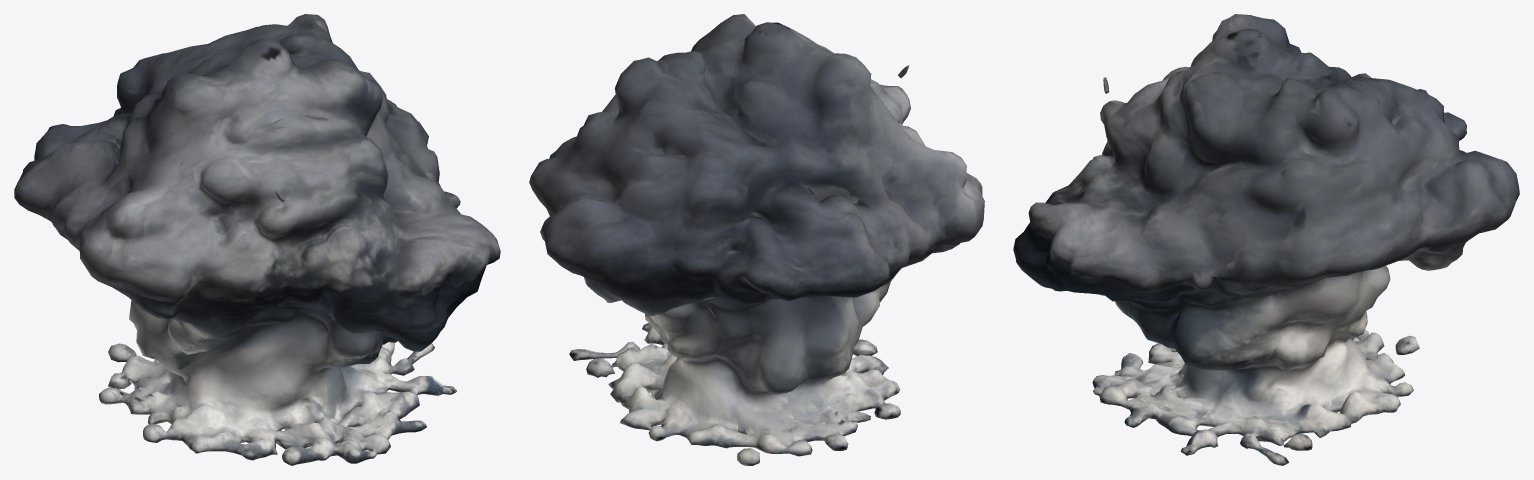
3 views of the same model, side by side, from view 1: azimuth 30°, elevation 25°; view 2: azimuth 150°, elevation 25°; view 3: azimuth 270°, elevation 25° (orthographic). The views are drawn at different scales.
Size of the model in its own units: 1.67 by 1.53 by 1.99.
Materials: 1 (1 with a texture image).
